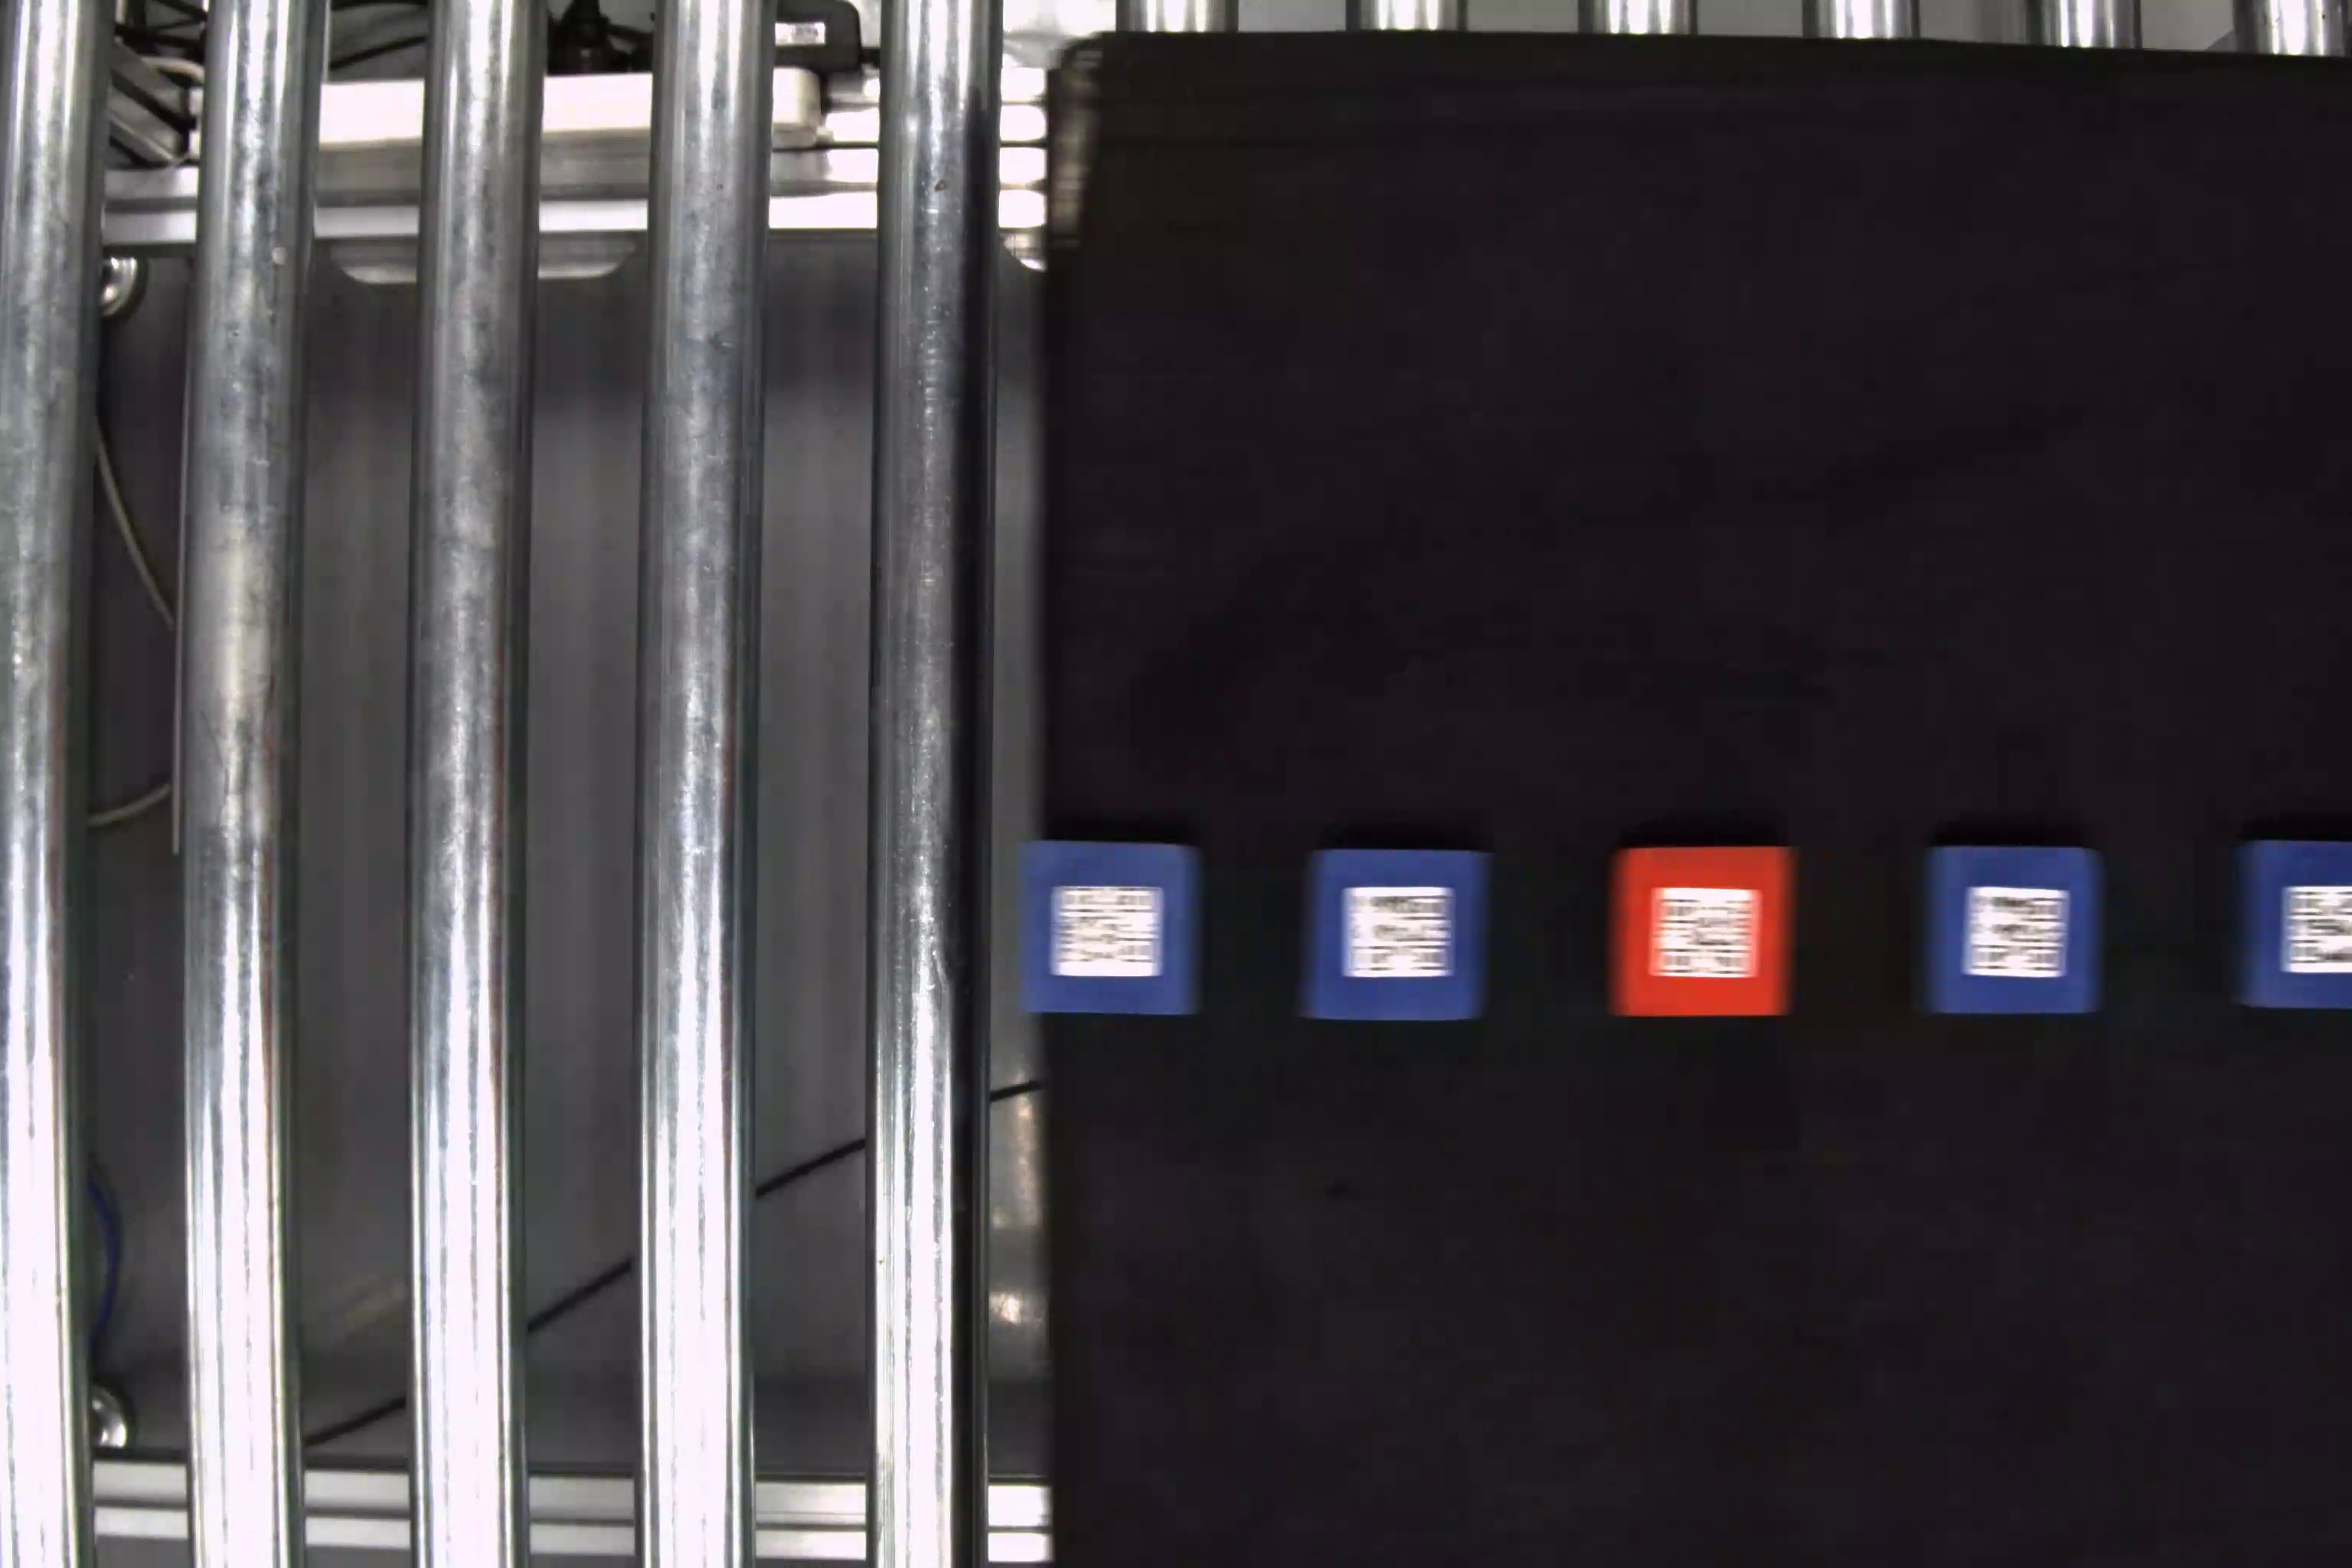wood: (1011, 840, 1207, 1018), (1297, 843, 1487, 1025), (1911, 840, 2107, 1017), (1606, 842, 1794, 1022), (2229, 840, 2352, 1018)
